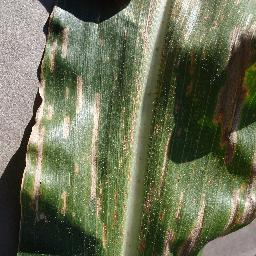Gray_Leaf_Spot: (210, 19, 256, 169), (13, 96, 54, 216), (137, 195, 181, 256), (146, 115, 177, 195), (222, 168, 256, 237), (32, 18, 69, 81), (89, 89, 104, 205), (181, 196, 209, 256), (118, 82, 141, 150), (125, 0, 161, 38), (60, 158, 82, 216), (124, 39, 148, 83), (169, 0, 209, 24), (184, 41, 200, 99), (113, 151, 133, 188), (72, 67, 86, 116), (109, 208, 125, 236), (99, 221, 110, 248), (61, 117, 72, 142)
